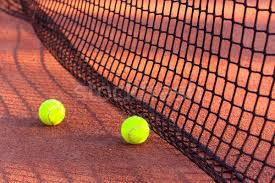tennis_ball: (121, 115, 149, 145), (38, 98, 65, 126)
